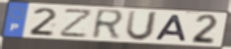2: (26, 7, 59, 37), (191, 13, 219, 45)
A: (153, 14, 188, 42)
R: (90, 8, 127, 42)
U: (124, 9, 160, 43)
Z: (59, 9, 95, 39)
